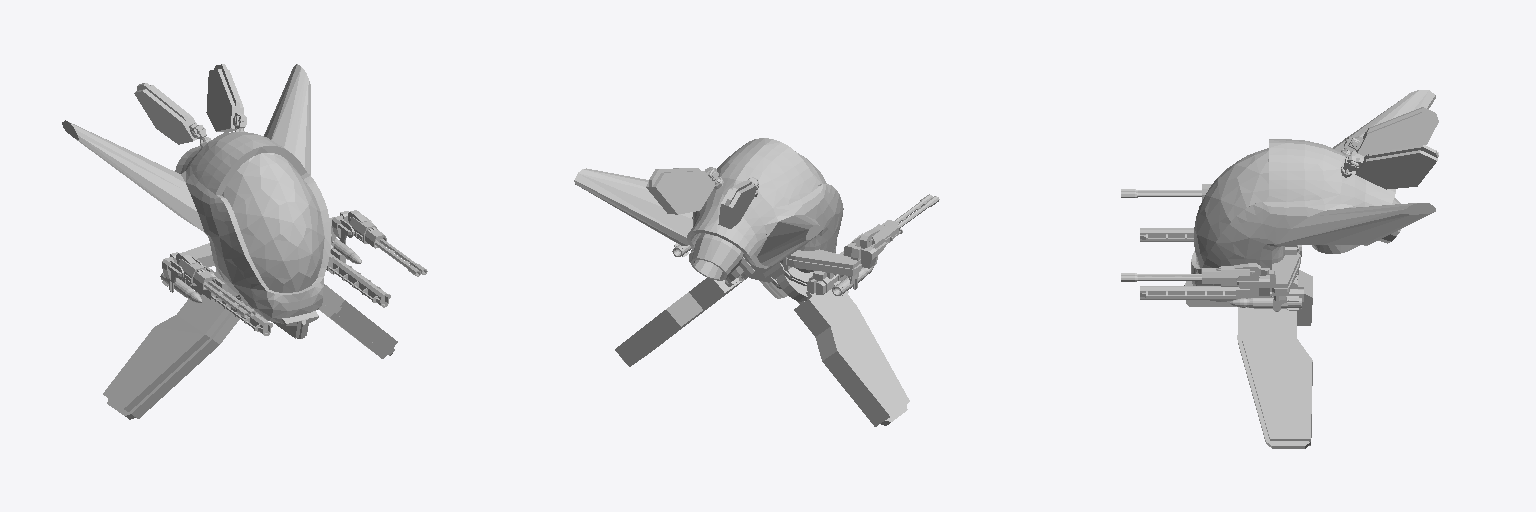
The model's file is spaceship6.obj.
3 views of the same model, side by side, from view 1: azimuth 30°, elevation 25°; view 2: azimuth 150°, elevation 25°; view 3: azimuth 270°, elevation 25° (orthographic).
Parts seen in each view (by area): view 1: spaceship6; view 2: spaceship6; view 3: spaceship6.
Boxes of the visible parts, box(x1,y1,x2,y2) form: spaceship6: box(62, 64, 427, 419); spaceship6: box(574, 138, 939, 426); spaceship6: box(1121, 90, 1438, 448).
Bounding box in the file's own units: 1 × 0.9 × 1.